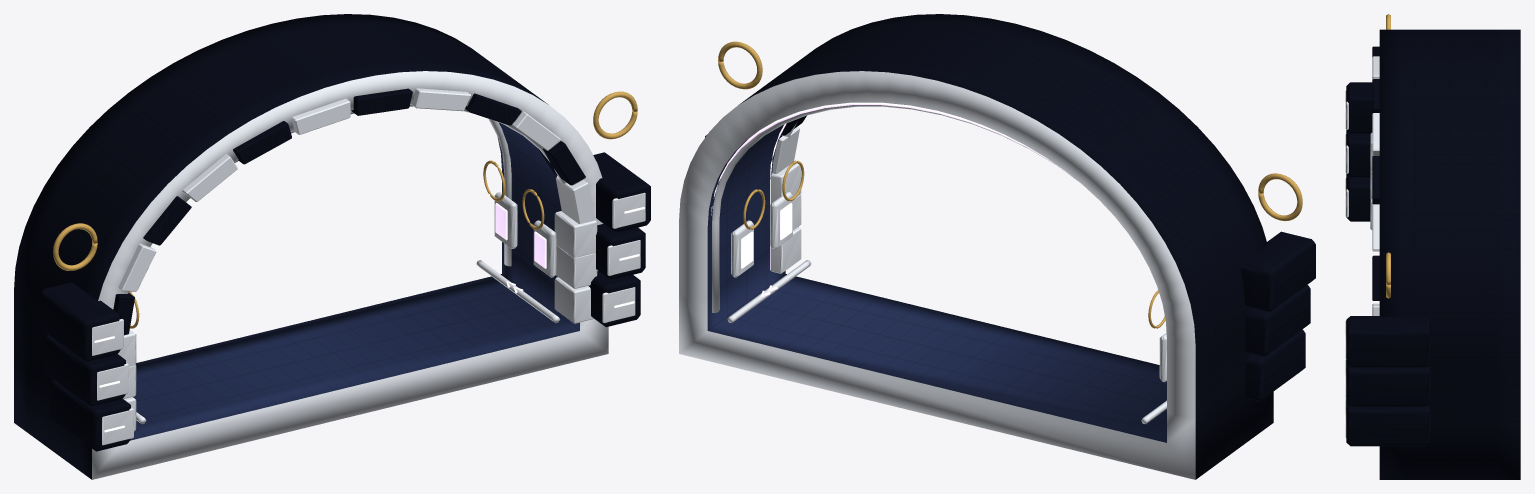
File: portal_entry_lod1.glb
3 renders of one model, left to right at view 1: azimuth 30°, elevation 25°; view 2: azimuth 150°, elevation 25°; view 3: azimuth 270°, elevation 25°, orthographic. The views are drawn at different scales.
Visible parts, largest first — view 1: TunnelGeometry.001; view 2: TunnelGeometry.001; view 3: TunnelGeometry.001.
Boxes of the visible parts, bbox=[...] form: TunnelGeometry.001: bbox=[14, 14, 650, 479]; TunnelGeometry.001: bbox=[679, 14, 1315, 479]; TunnelGeometry.001: bbox=[1344, 14, 1520, 479].
Bounding box in the file's own units: 17.32 × 9.52 × 5.01.
Materials: 5 (2 with a texture image).
